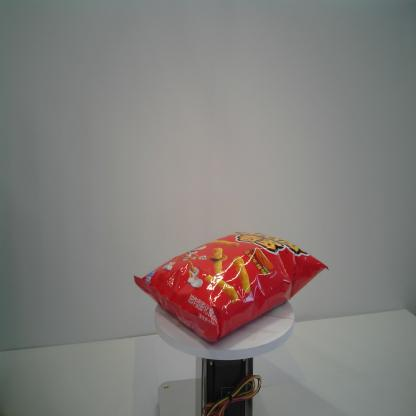Puffed Food: (134, 229, 330, 344)
